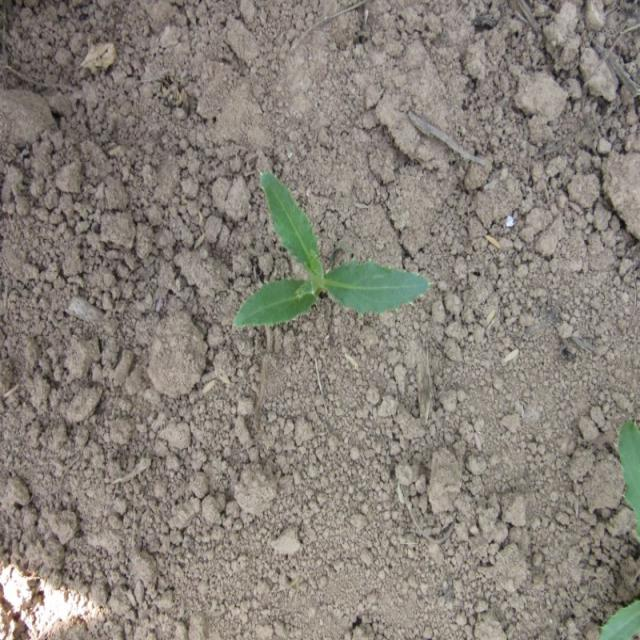field_thistle: (229, 164, 462, 369)
